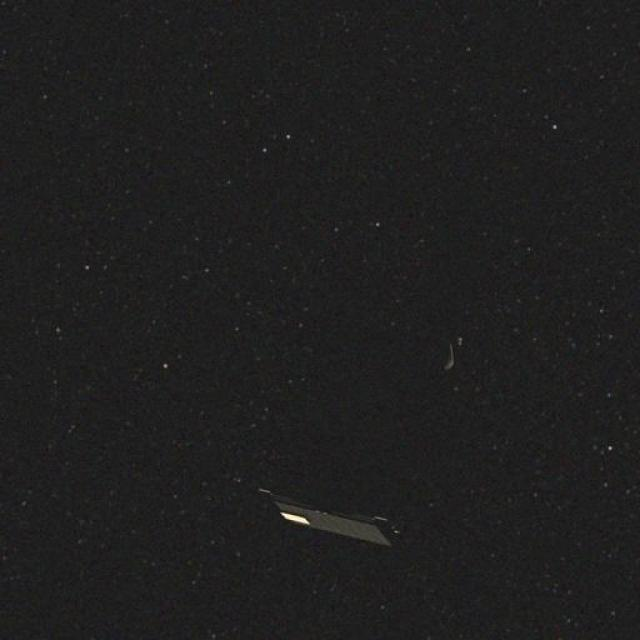proba_3_csc: (240, 322, 457, 567)
